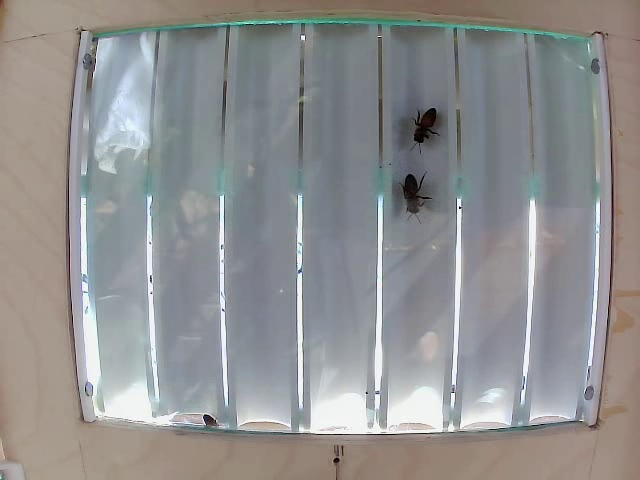bee: (409, 97, 445, 151), (397, 168, 435, 214)
